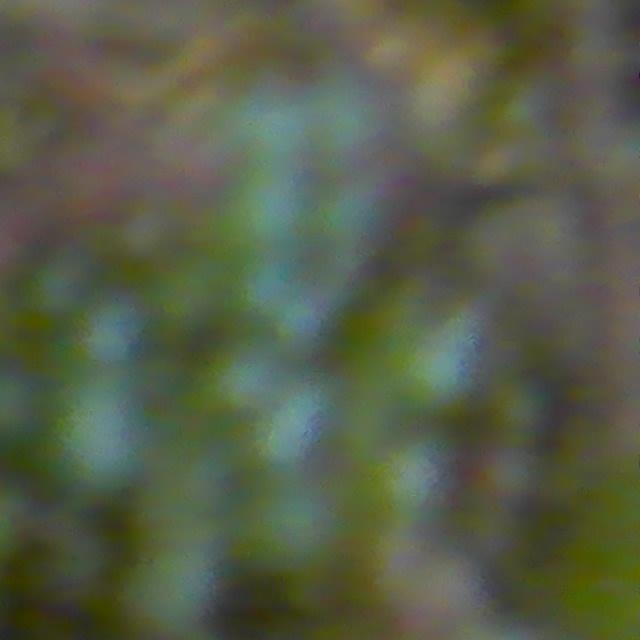SeaGrape: (45, 373, 151, 492), (121, 539, 224, 639), (243, 480, 344, 579), (386, 311, 483, 414), (251, 378, 341, 473), (220, 165, 310, 254), (367, 432, 454, 523), (199, 337, 283, 418), (148, 250, 228, 334), (313, 175, 388, 252), (75, 293, 147, 369), (24, 250, 94, 320)
